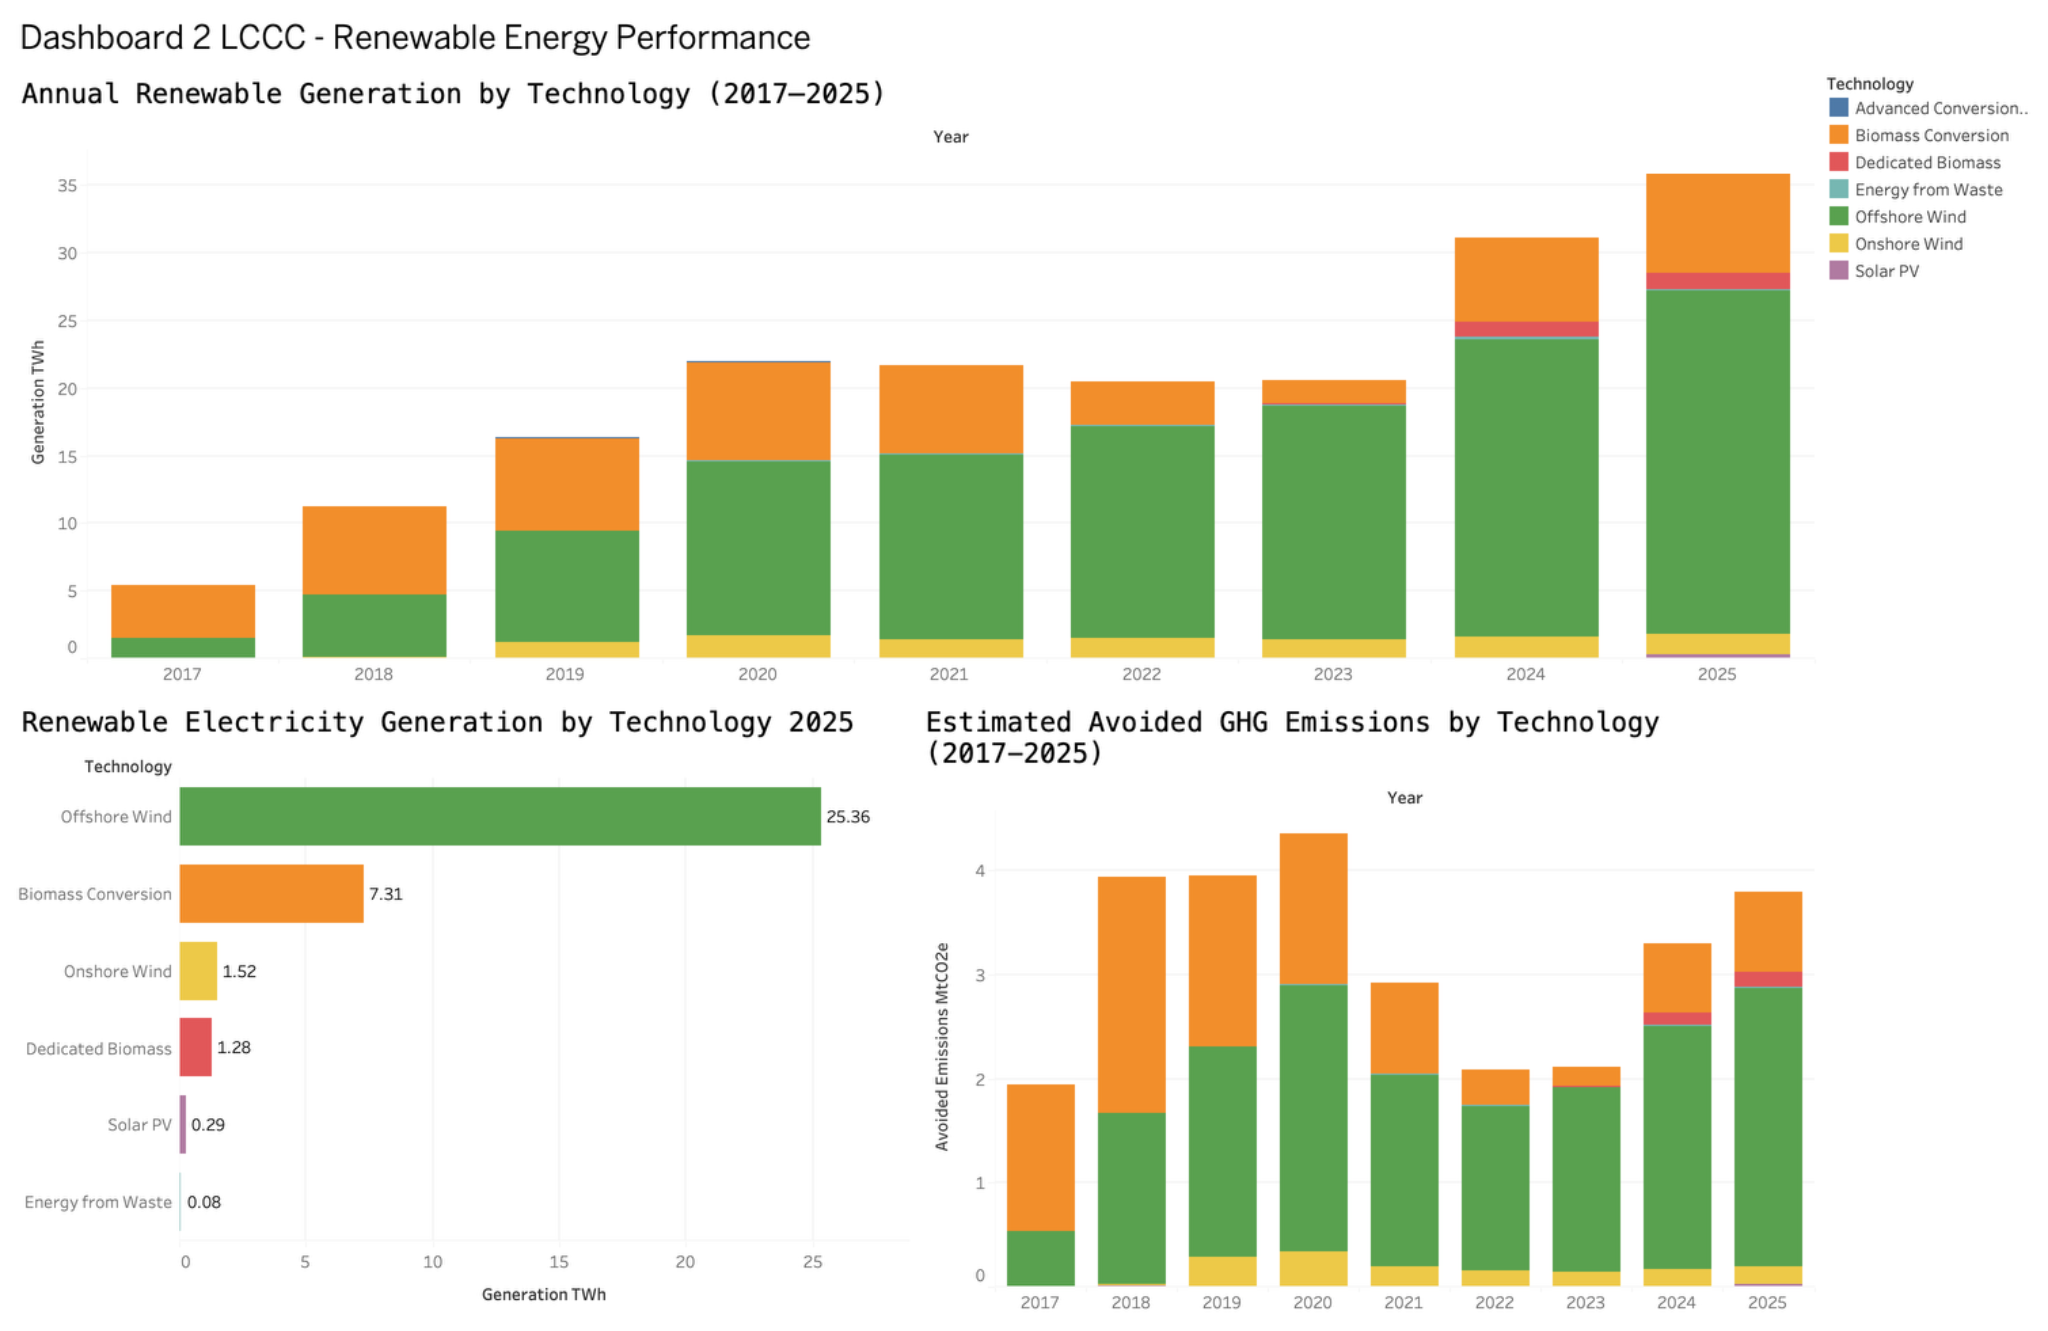

What the dashboard file says about the page in this screenshot:
{"tool":"tableau","page":{"name":"Dashboard 2 - Renewable Technology & Environmental Impact","canvas":[1000,1000],"units":"permille","ordinal":1},"visuals":[{"type":"title","box":[5.3,8.2,989.4,39.8]},{"type":"worksheet","title":"02 - Generation by Technology","mark":"Bar","rows":["Calculation_4854673335877633"],"cols":["year"],"box":[5.3,47.9,883.4,472]},{"type":"legend","title":"02 - Generation by Technology","param":"[federated.1vv4ucx19uc3l01epurjv1r9k3kh].[none:technology:nk]","box":[888.7,47.9,106,169.2]},{"type":"worksheet","title":"03 - Generation by Technology (2025)","mark":"Bar","rows":["technology"],"cols":["Calculation_4854673335877633"],"box":[5.3,519.9,441.7,472]},{"type":"worksheet","title":"04 - Estimated Avoided Emissions","mark":"Bar","rows":["Calculation_4854673339748354"],"cols":["year"],"box":[447,519.9,441.7,472]}]}

Visuals, with their boxes on the dashboard's canvas, which has no fixed pixel size, in thousandths of its width and height (x1, y1, x2, y2). These are canvas units, not pixel positions in the 2048x1331 screenshot, which may show the page scaled, cropped or inside an application window:
title: x1=5, y1=8, x2=995, y2=48
"02 - Generation by Technology" worksheet (Bar marks): x1=5, y1=48, x2=889, y2=520
"02 - Generation by Technology" legend: x1=889, y1=48, x2=995, y2=217
"03 - Generation by Technology (2025)" worksheet (Bar marks): x1=5, y1=520, x2=447, y2=992
"04 - Estimated Avoided Emissions" worksheet (Bar marks): x1=447, y1=520, x2=889, y2=992
